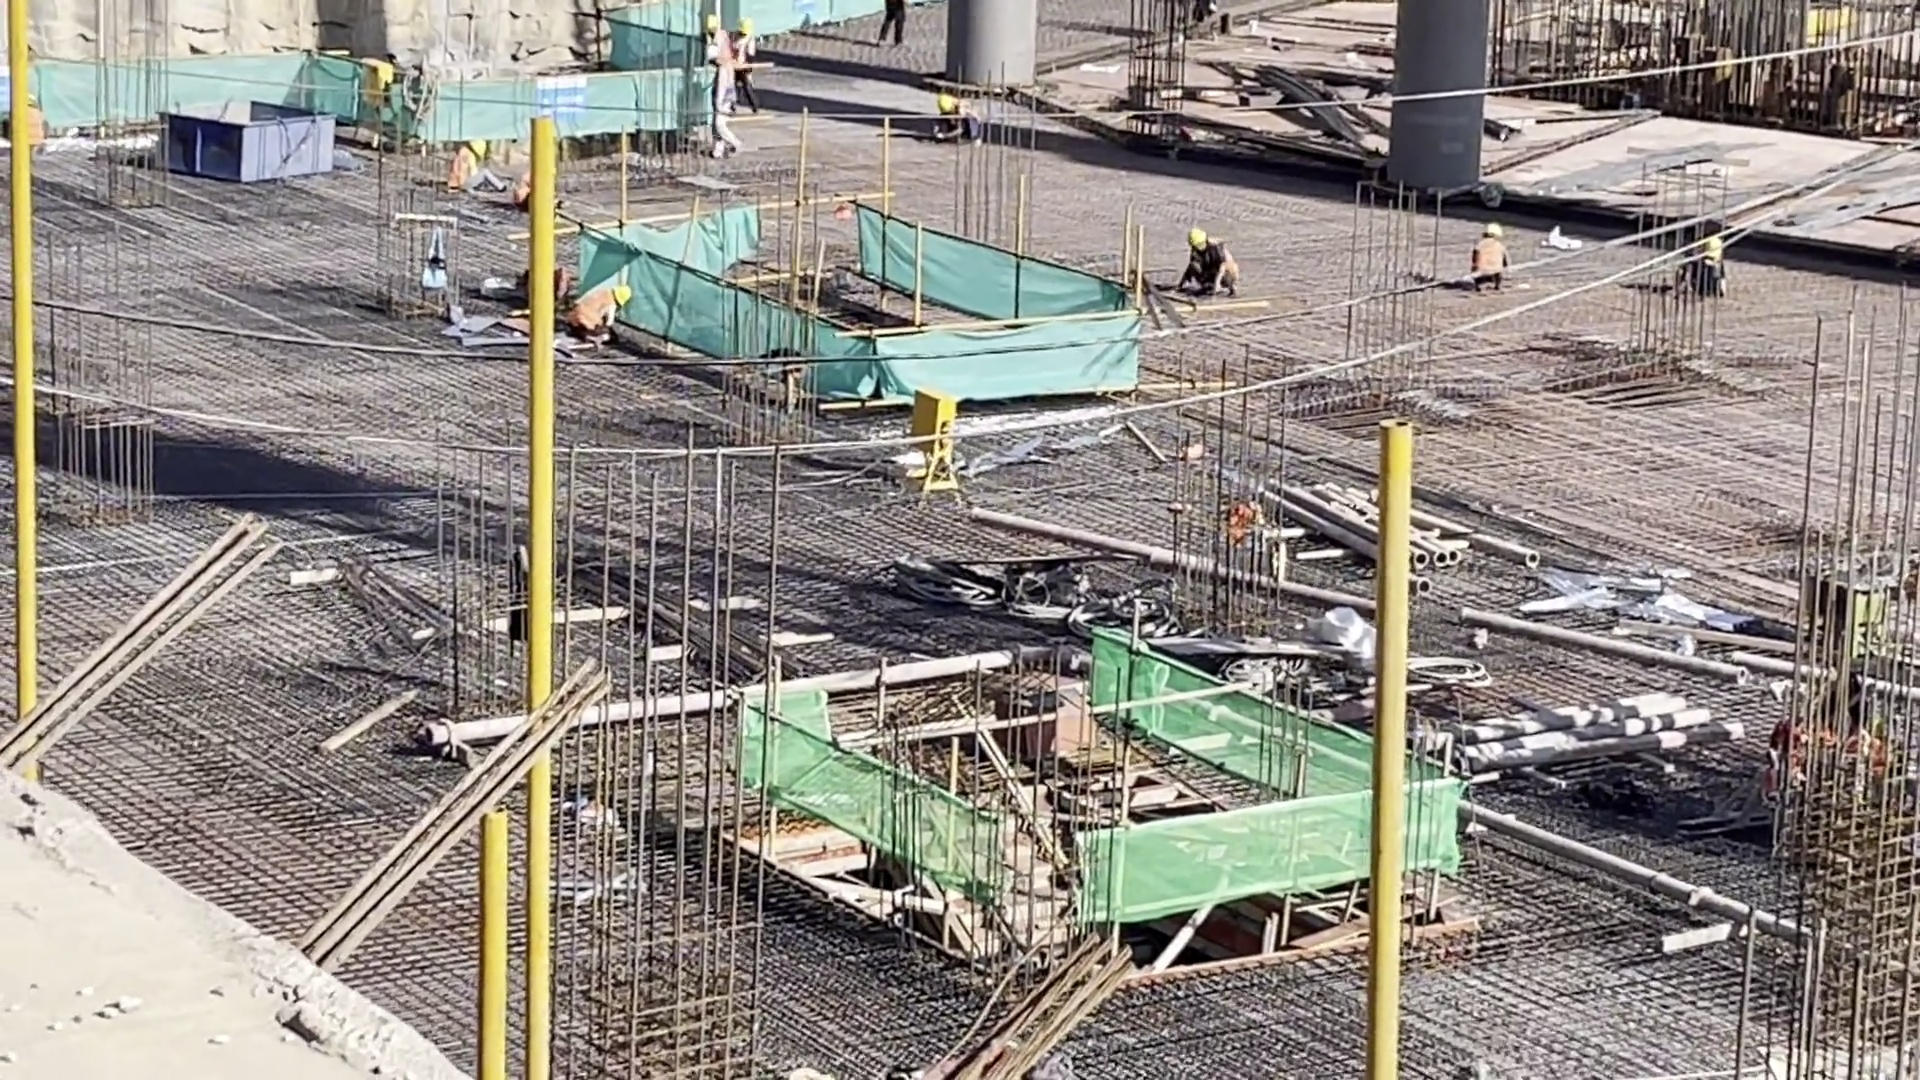ebox: (916, 379, 963, 454), (351, 59, 406, 121)
helmet: (469, 131, 488, 158), (1704, 239, 1719, 261), (614, 286, 632, 305), (703, 52, 720, 69), (710, 9, 721, 32), (1485, 221, 1499, 235), (746, 12, 756, 32), (1190, 231, 1201, 243)
hopper: (164, 95, 334, 186)
person: (938, 86, 1026, 186), (1178, 220, 1243, 301), (579, 276, 638, 363), (704, 10, 743, 138), (1676, 231, 1736, 291), (1469, 220, 1519, 291), (451, 140, 499, 213), (873, 1, 929, 63), (741, 13, 768, 113), (524, 258, 569, 310)
rebar: (1254, 46, 1394, 153)
vest: (1466, 239, 1504, 282), (572, 290, 612, 325), (1204, 244, 1236, 279), (1694, 251, 1718, 285), (450, 152, 476, 182), (720, 68, 737, 102), (741, 36, 755, 52), (721, 35, 729, 54)
